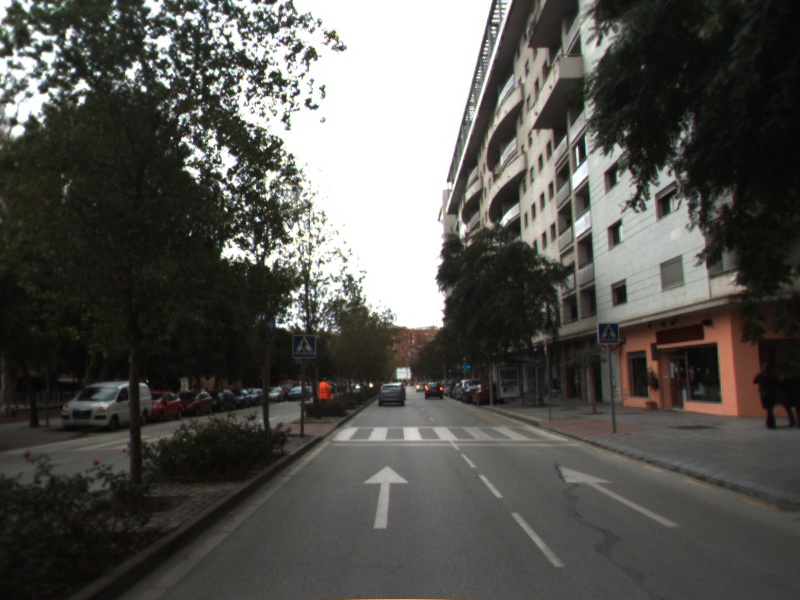STRAIGHT: (556, 463, 682, 529), (361, 464, 412, 531)
